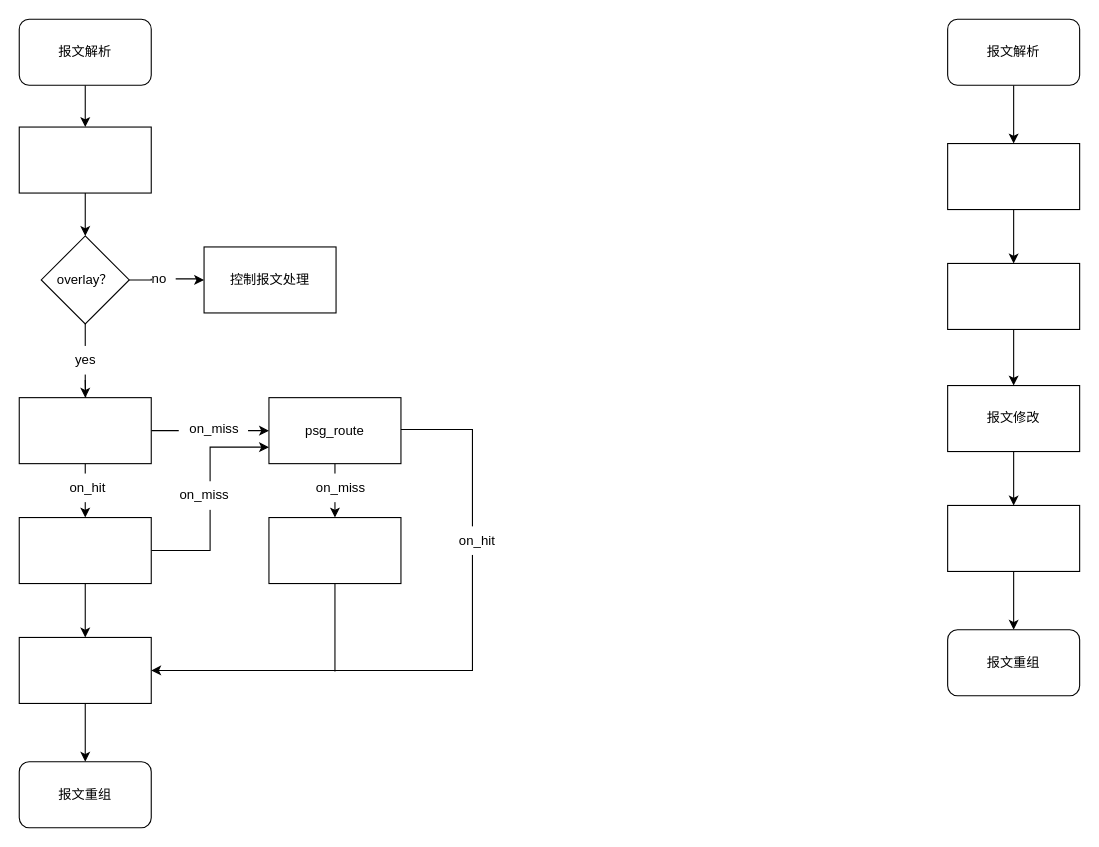
The diagram is 1099 pixels wide and 847 high, and some of its shapes have lost their labels. Here are the shapes that lost their labels. From the top down, the box of each, then its label:
(18, 126, 151, 193): 全局配置
(947, 142, 1080, 210): datapath
(947, 262, 1080, 329): 对账报文处理
(18, 397, 151, 464): vpn_in_ugn
(18, 516, 151, 584): ugn_route
(268, 516, 401, 584): vpc_route
(947, 504, 1080, 571): 报文镜像
(18, 636, 151, 703): set_bridge
